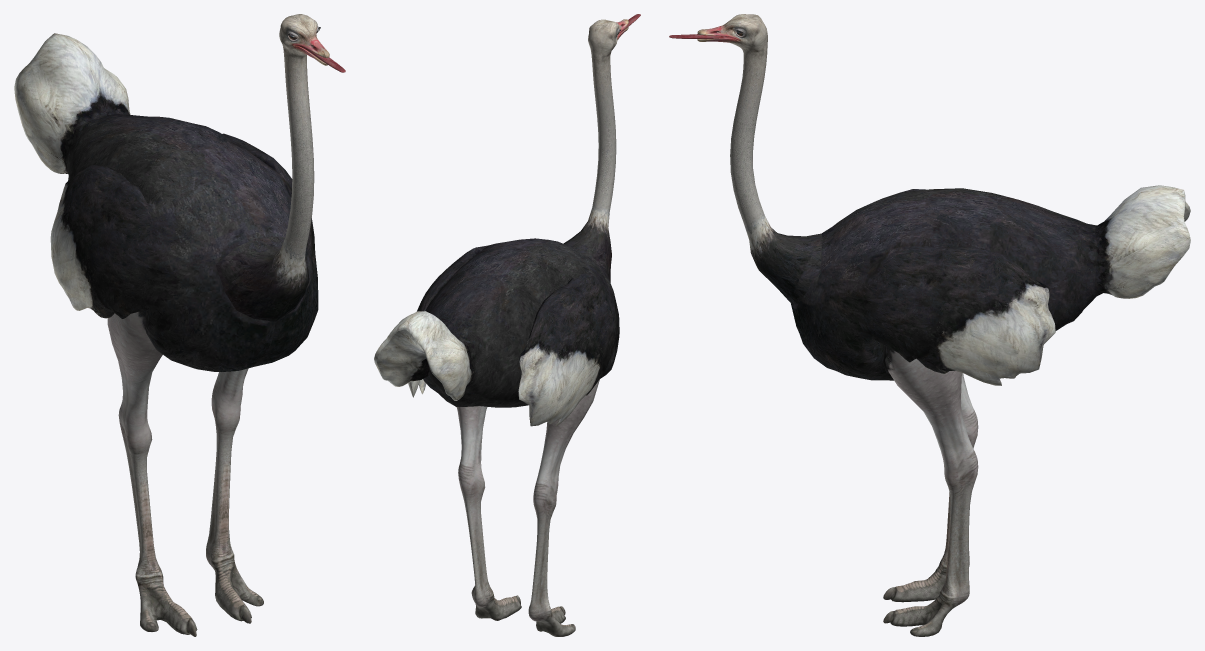
Rendered from ostrich.glb.
3 renders of one model, left to right at view 1: azimuth 30°, elevation 25°; view 2: azimuth 150°, elevation 25°; view 3: azimuth 270°, elevation 25°, orthographic. The views are drawn at different scales.
Parts seen in each view (by area): view 1: ostrich; view 2: ostrich; view 3: ostrich.
Part boxes in pixels (left/top/right/bottom): ostrich: left=14, top=14, right=345, bottom=636; ostrich: left=374, top=14, right=640, bottom=636; ostrich: left=669, top=14, right=1190, bottom=636.
Bounding box in the file's own units: 1.56 × 4.8 × 3.82.
1 material, 1 textured.
